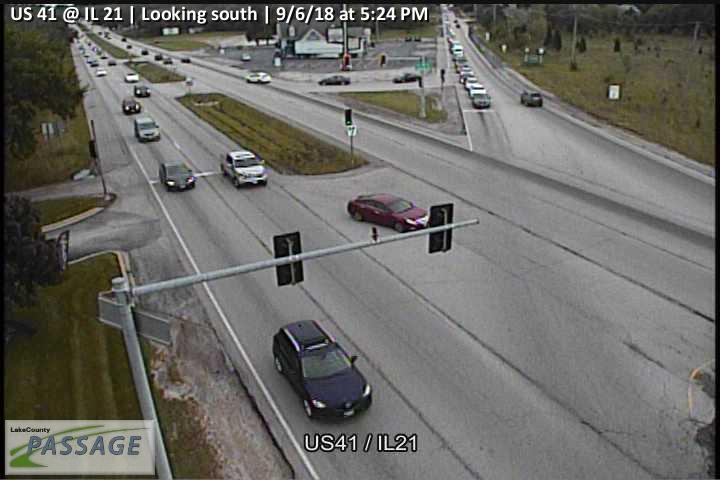Bus: (452, 44, 464, 60)
SUV: (271, 318, 373, 423), (221, 150, 270, 189), (134, 115, 162, 143), (520, 87, 544, 109), (121, 95, 142, 116), (243, 71, 274, 84), (318, 74, 351, 86), (470, 84, 487, 96), (466, 77, 478, 87)
Sedan: (346, 191, 432, 233), (158, 160, 197, 193), (393, 71, 422, 84), (471, 94, 493, 108), (133, 83, 152, 99), (124, 70, 139, 83), (94, 68, 109, 78), (161, 54, 173, 64), (239, 51, 251, 61), (179, 55, 192, 64), (90, 58, 99, 67), (108, 60, 116, 66)
